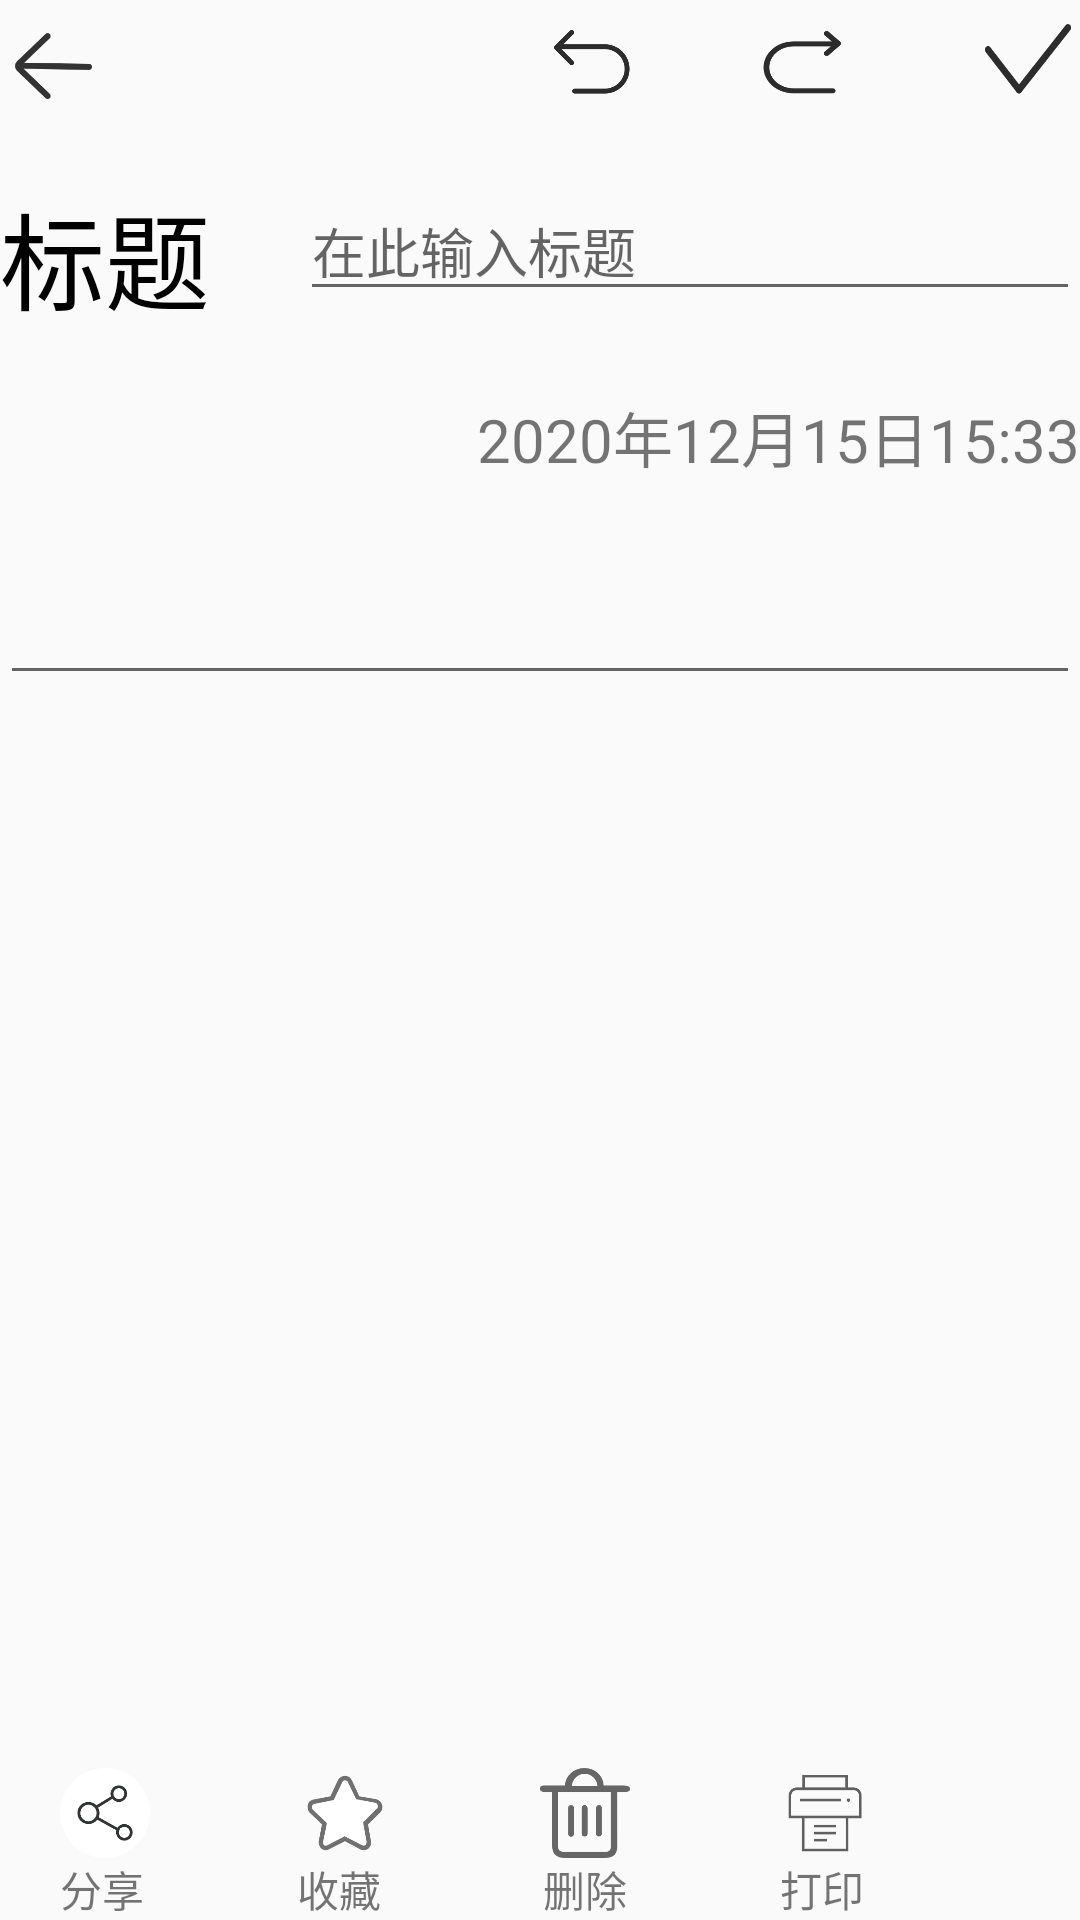

Point at icon controls on the screen. Image size 1080×1920, points as (x,y).
chexiao: (592,62)
gou: (1028,59)
huifu: (802,62)
to return: (53,66)
